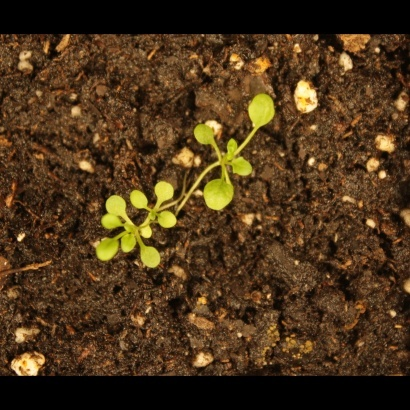leaf: (202, 177, 240, 214), (246, 91, 283, 127), (185, 119, 223, 153), (90, 233, 125, 264), (93, 210, 131, 237), (103, 190, 130, 219), (138, 245, 167, 270), (231, 156, 255, 184), (220, 138, 244, 161), (118, 234, 141, 257), (136, 220, 159, 243), (156, 207, 179, 230), (127, 189, 150, 212), (153, 180, 176, 203)
